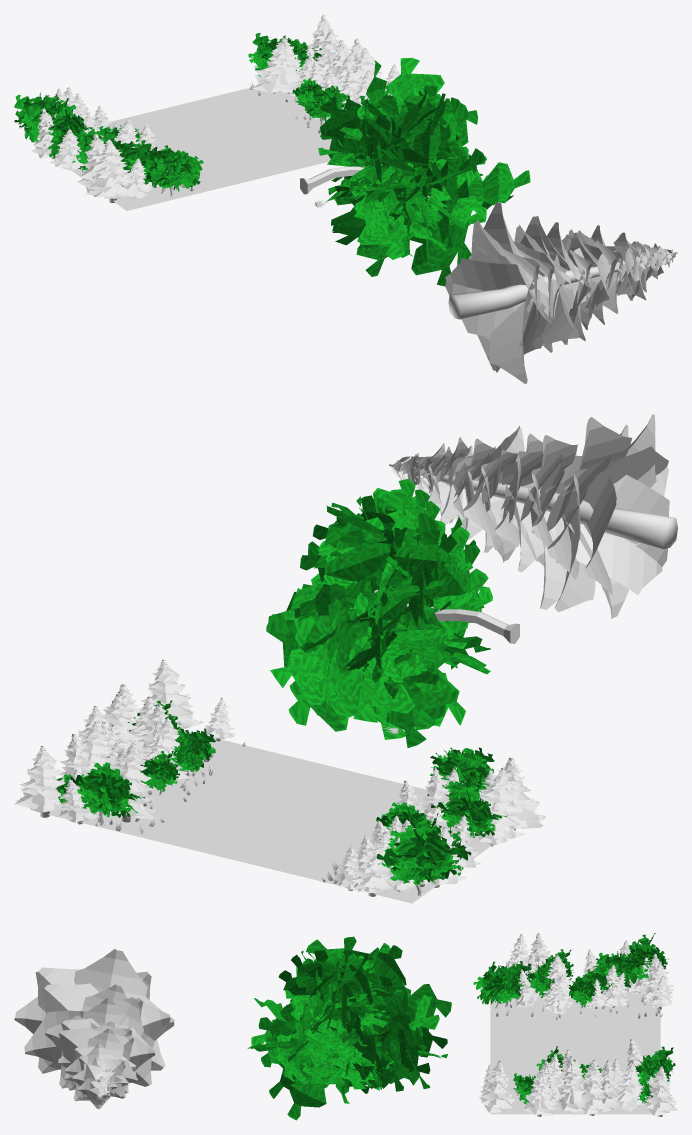
The model's file is forestRoadwExtras.fbx.
3 renders of one model, top to bottom at view 1: azimuth 30°, elevation 25°; view 2: azimuth 150°, elevation 25°; view 3: azimuth 270°, elevation 25°, orthographic. The views are drawn at different scales.
Parts seen in each view (by area): view 1: Tree, Pine, Grid, Grid|Pine|Dupli|46.1, Grid|Pine|Dupli|5.1, Grid|Tree|Dupli|0.1, Grid|Tree|Dupli|44.1, Grid|Tree|Dupli|4.1, Grid|Tree|Dupli|20.1, Grid|Tree|Dupli|52.1, Grid|Pine|Dupli|26.1, Grid|Tree|Dupli|40.1 (+4 smaller); view 2: Tree, Pine, Grid, Grid|Tree|Dupli|44.1, Grid|Tree|Dupli|52.1, Grid|Pine|Dupli|54.1, Grid|Tree|Dupli|16.1, Grid|Pine|Dupli|2.1, Grid|Pine|Dupli|10.1, Grid|Pine|Dupli|46.1, Grid|Tree|Dupli|4.1, Grid|Tree|Dupli|20.1 (+11 smaller); view 3: Tree, Pine, Grid, Grid|Pine|Dupli|2.1, Grid|Pine|Dupli|23.1, Grid|Pine|Dupli|31.1, Grid|Pine|Dupli|54.1, Grid|Tree|Dupli|44.1, Grid|Pine|Dupli|9.1, Grid|Tree|Dupli|0.1, Grid|Pine|Dupli|43.1, Grid|Tree|Dupli|52.1 (+17 smaller).
Part boxes in pixels (x1,y1,x2,y2): Tree: [300, 57, 530, 286]; Pine: [445, 202, 677, 384]; Grid: [33, 88, 331, 210]; Grid|Pine|Dupli|46.1: [252, 37, 302, 92]; Grid|Pine|Dupli|5.1: [84, 139, 135, 202]; Grid|Tree|Dupli|0.1: [148, 151, 203, 196]; Grid|Tree|Dupli|44.1: [14, 92, 76, 142]; Grid|Tree|Dupli|4.1: [128, 140, 187, 193]; Grid|Tree|Dupli|20.1: [300, 85, 350, 125]; Grid|Tree|Dupli|52.1: [248, 33, 308, 76]; Grid|Pine|Dupli|26.1: [49, 129, 83, 170]; Grid|Tree|Dupli|40.1: [37, 107, 94, 145]; Tree: [266, 479, 519, 747]; Pine: [389, 414, 677, 618]; Grid: [48, 729, 492, 903]; Grid|Tree|Dupli|44.1: [376, 825, 466, 896]; Grid|Tree|Dupli|52.1: [70, 762, 145, 825]; Grid|Pine|Dupli|54.1: [14, 745, 65, 817]; Grid|Tree|Dupli|16.1: [431, 788, 507, 841]; Grid|Pine|Dupli|2.1: [140, 659, 203, 728]; Grid|Pine|Dupli|10.1: [473, 767, 525, 839]; Grid|Pine|Dupli|46.1: [114, 742, 158, 822]; Grid|Tree|Dupli|4.1: [436, 748, 490, 798]; Grid|Tree|Dupli|20.1: [168, 726, 215, 780]; Tree: [247, 936, 451, 1120]; Pine: [14, 949, 174, 1109]; Grid: [490, 989, 660, 1114]; Grid|Pine|Dupli|2.1: [479, 1060, 514, 1112]; Grid|Pine|Dupli|23.1: [556, 1055, 587, 1112]; Grid|Pine|Dupli|31.1: [578, 1059, 611, 1115]; Grid|Pine|Dupli|54.1: [643, 1066, 677, 1116]; Grid|Tree|Dupli|44.1: [624, 933, 668, 979]; Grid|Pine|Dupli|9.1: [522, 1068, 555, 1116]; Grid|Tree|Dupli|0.1: [473, 961, 517, 1008]; Grid|Pine|Dupli|43.1: [614, 1062, 643, 1111]; Grid|Tree|Dupli|52.1: [635, 1046, 675, 1086].
Size of the model in its own units: 5368 by 2789 by 9675.
